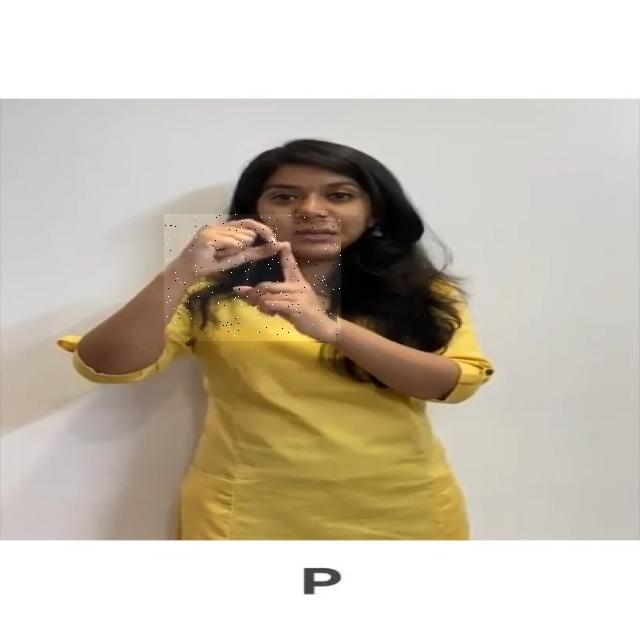P: (164, 214, 341, 341)
